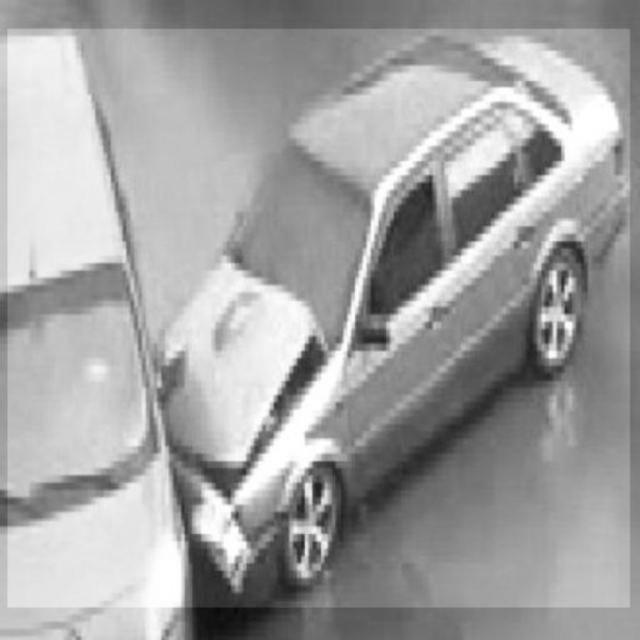accident: (8, 29, 630, 607)
